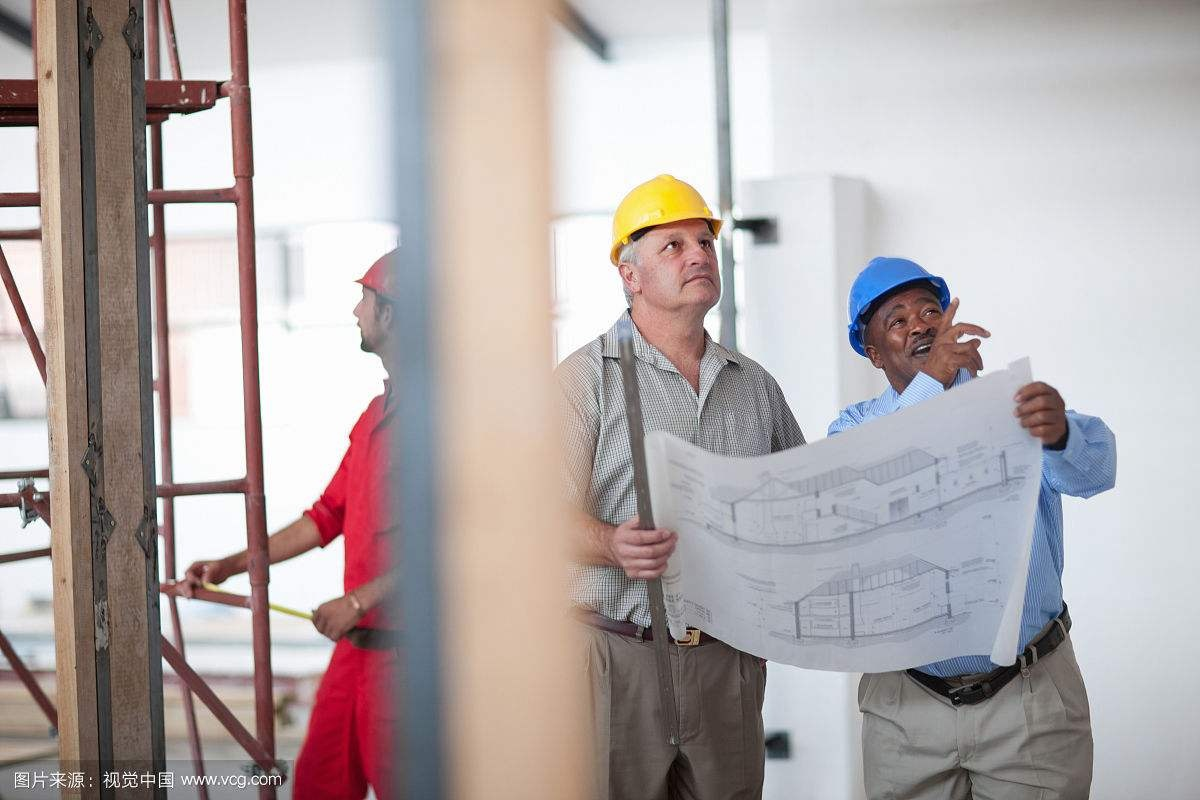blue: (841, 253, 960, 388)
red: (353, 242, 421, 367)
yellow: (598, 161, 735, 334)
